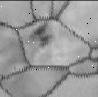good_void: (32, 23, 51, 47)
